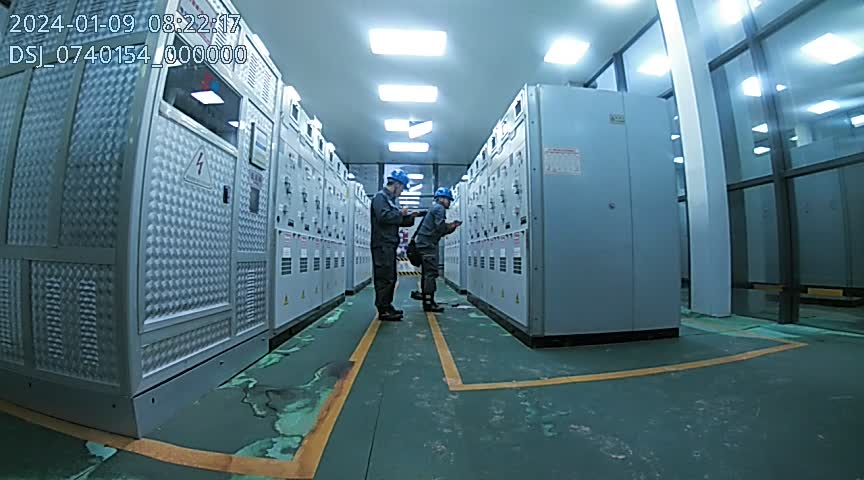halt: (386, 172, 411, 200), (436, 190, 457, 211)
